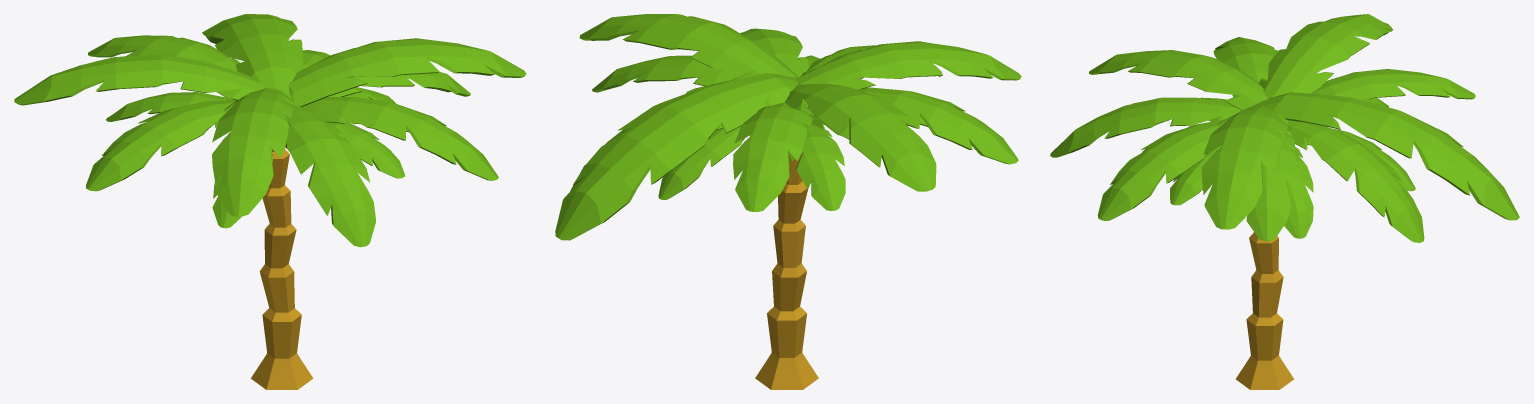
File: palm-tree.glb
3 views of the same model, side by side, from view 1: azimuth 30°, elevation 25°; view 2: azimuth 150°, elevation 25°; view 3: azimuth 270°, elevation 25° (orthographic). The views are drawn at different scales.
Parts seen in each view (by area): view 1: Object_3, Object_2; view 2: Object_3, Object_2; view 3: Object_3, Object_2.
Boxes of the visible parts, bbox=[...] form: Object_3: bbox=[14, 14, 526, 247]; Object_2: bbox=[251, 148, 313, 389]; Object_3: bbox=[555, 14, 1021, 240]; Object_2: bbox=[755, 153, 818, 389]; Object_3: bbox=[1050, 14, 1519, 242]; Object_2: bbox=[1236, 232, 1293, 389].
Size of the model in its own units: 17.02 by 12.02 by 17.07.
